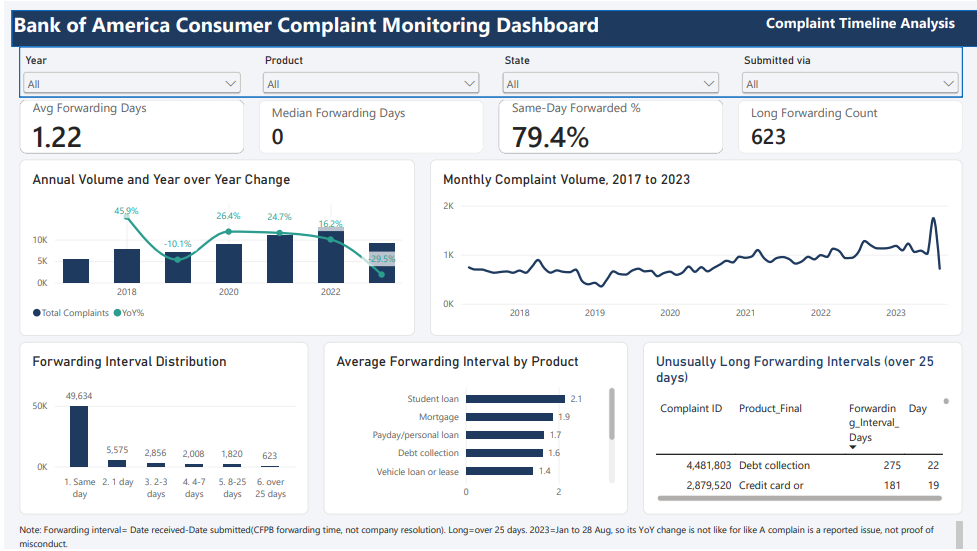

The page's visual inventory and layout, read from the dashboard file:
{"tool":"powerbi","page":{"name":"Complaint Timeline Analysis","canvas":[1280,720],"ordinal":3},"visuals":[{"type":"shape","box":[10.1,11.8,1269.9,48.7],"z":0},{"type":"textbox","box":[11.8,11.8,786.1,48.7],"z":1000},{"type":"shape","box":[20.2,60.5,1239.7,65.5],"z":2000},{"type":"slicer","fields":{"Values":["Data.Year"]},"box":[20,70,295.6,55],"z":3000},{"type":"slicer","fields":{"Values":["Data.Product_Final"]},"box":[335,70,295,55],"z":4000},{"type":"slicer","fields":{"Values":["Data.State"]},"box":[650,70,295,55],"z":5000},{"type":"slicer","fields":{"Values":["Data.Submitted via"]},"box":[965,70,295,55],"z":6000},{"type":"textbox","box":[20.2,683.7,1239.7,37],"z":7000},{"type":"textbox","box":[900.4,15,350,30],"z":8000},{"type":"cardVisual","fields":{"Data":["Data.Avg Forwarding Days"]},"box":[20,130,295,70],"z":8001},{"type":"cardVisual","fields":{"Data":["Data.Same-Day Forwarded %"]},"box":[650,130,295,70],"z":8002},{"type":"cardVisual","fields":{"Data":["Data.Median Forwarding Days"]},"box":[335,130,295,70],"z":8003},{"type":"cardVisual","fields":{"Data":["Data.Long Forwarding Count"]},"box":[965,130,295,70],"z":8004},{"type":"lineClusteredColumnComboChart","title":"Annual Volume and Year over Year Change","fields":{"Category":["Data.Year"],"Y":["Data.Total Complaints"],"Y2":["Data.YoY%"]},"box":[20,208,520,232],"z":8005},{"type":"lineChart","title":"Monthly Complaint Volume, 2017 to 2023","fields":{"Category":["Data.Month Start"],"Y":["Data.Total Complaints"]},"box":[560,208,700,232],"z":8006},{"type":"clusteredColumnChart","title":"Forwarding Interval Distribution","fields":{"Category":["Data.Fwd Bucket"],"Y":["Data.Total Complaints"]},"box":[20,448,380,227],"z":8007},{"type":"clusteredBarChart","title":"Average Forwarding  Interval by Product","fields":{"Category":["Data.Product_Final"],"Y":["Data.Avg Forwarding Days"]},"box":[420,448,400,227],"z":8008},{"type":"tableEx","title":"Unusually Long Forwarding Intervals (over 25 days)","fields":{"Values":["Data.Complaint ID","Data.Product_Final","Data.Forwarding_Interval_Days","Data.Date submitted.Variation.Date Hierarchy.Day"]},"box":[840,448,420,227],"z":8009}]}

Visuals, with their boxes in screenshot pixels (x1, y1, x2, y2), scaled from the page's 1280x720 canvas onto the 977x551 screenshot:
shape: x1=8, y1=9, x2=976, y2=46
textbox: x1=9, y1=9, x2=609, y2=46
shape: x1=15, y1=46, x2=962, y2=96
slicer - Data.Year: x1=15, y1=54, x2=241, y2=96
slicer - Data.Product_Final: x1=256, y1=54, x2=481, y2=96
slicer - Data.State: x1=496, y1=54, x2=721, y2=96
slicer - Data.Submitted via: x1=737, y1=54, x2=962, y2=96
textbox: x1=15, y1=523, x2=962, y2=550
textbox: x1=687, y1=11, x2=954, y2=34
cardVisual - Data.Avg Forwarding Days: x1=15, y1=99, x2=240, y2=153
cardVisual - Data.Same-Day Forwarded %: x1=496, y1=99, x2=721, y2=153
cardVisual - Data.Median Forwarding Days: x1=256, y1=99, x2=481, y2=153
cardVisual - Data.Long Forwarding Count: x1=737, y1=99, x2=962, y2=153
"Annual Volume and Year over Year Change" lineClusteredColumnComboChart: x1=15, y1=159, x2=412, y2=337
"Monthly Complaint Volume, 2017 to 2023" lineChart: x1=427, y1=159, x2=962, y2=337
"Forwarding Interval Distribution" clusteredColumnChart: x1=15, y1=343, x2=305, y2=517
"Average Forwarding  Interval by Product" clusteredBarChart: x1=321, y1=343, x2=626, y2=517
"Unusually Long Forwarding Intervals (over 25 days)" tableEx: x1=641, y1=343, x2=962, y2=517
